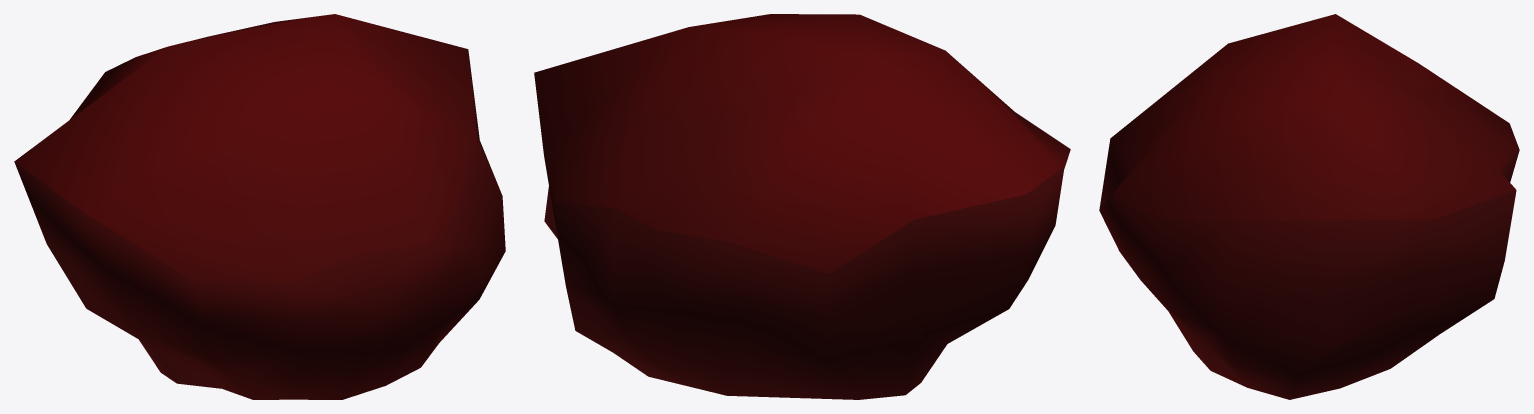
File: geology-pebbles-asphalt_v1.fbx
The picture shows the model from 3 angles, left to right: view 1: azimuth 30°, elevation 25°; view 2: azimuth 150°, elevation 25°; view 3: azimuth 270°, elevation 25°; orthographic projection. The views are drawn at different scales.
Visible parts, largest first — view 1: Asphalt_v1; view 2: Asphalt_v1; view 3: Asphalt_v1.
Part boxes in pixels (x1,y1,x2,y2): Asphalt_v1: [14, 14, 505, 399]; Asphalt_v1: [534, 14, 1070, 399]; Asphalt_v1: [1099, 14, 1519, 399].
Size of the model in its own units: 6.38 by 4.22 by 5.78.
